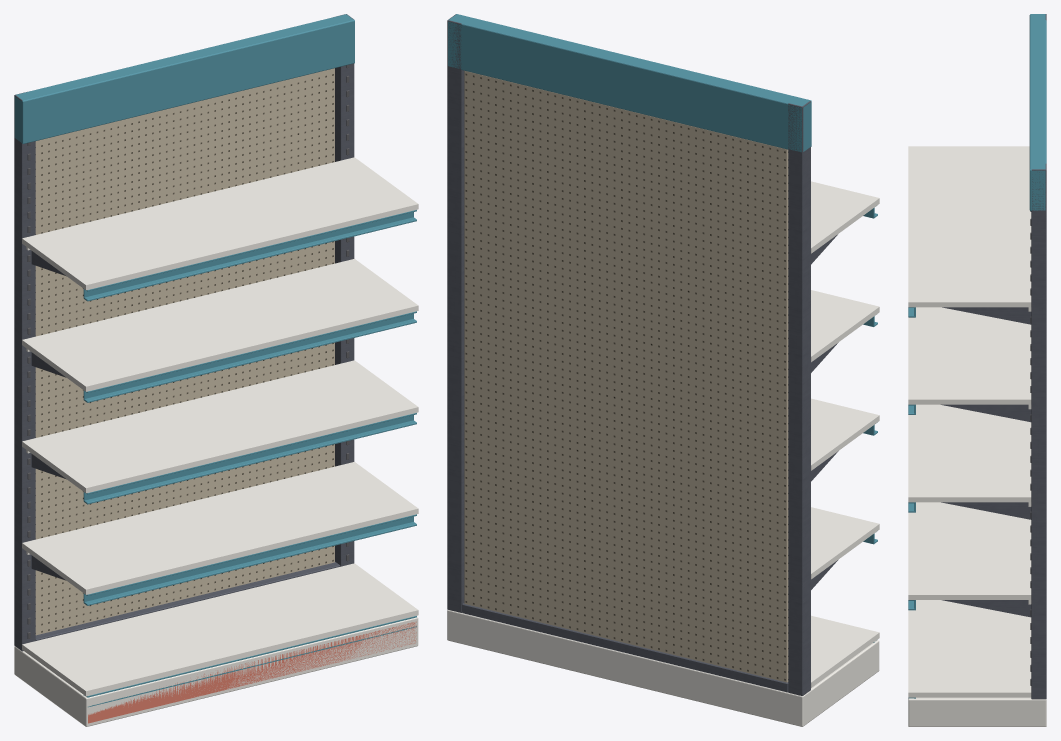
The model's file is shelf_wall.glb.
The picture shows the model from 3 angles, left to right: view 1: azimuth 30°, elevation 25°; view 2: azimuth 150°, elevation 25°; view 3: azimuth 270°, elevation 25°; orthographic projection. The views are drawn at different scales.
Parts seen in each view (by area): view 1: shelf_wall.001; view 2: shelf_wall.001; view 3: shelf_wall.001.
Boxes of the visible parts, bbox=[...] form: shelf_wall.001: bbox=[14, 14, 418, 726]; shelf_wall.001: bbox=[447, 14, 879, 726]; shelf_wall.001: bbox=[908, 14, 1046, 726].
Size of what is drawn, in the model's own units: 1.2 by 2 by 0.45.
Materials: 6 (2 with a texture image).
